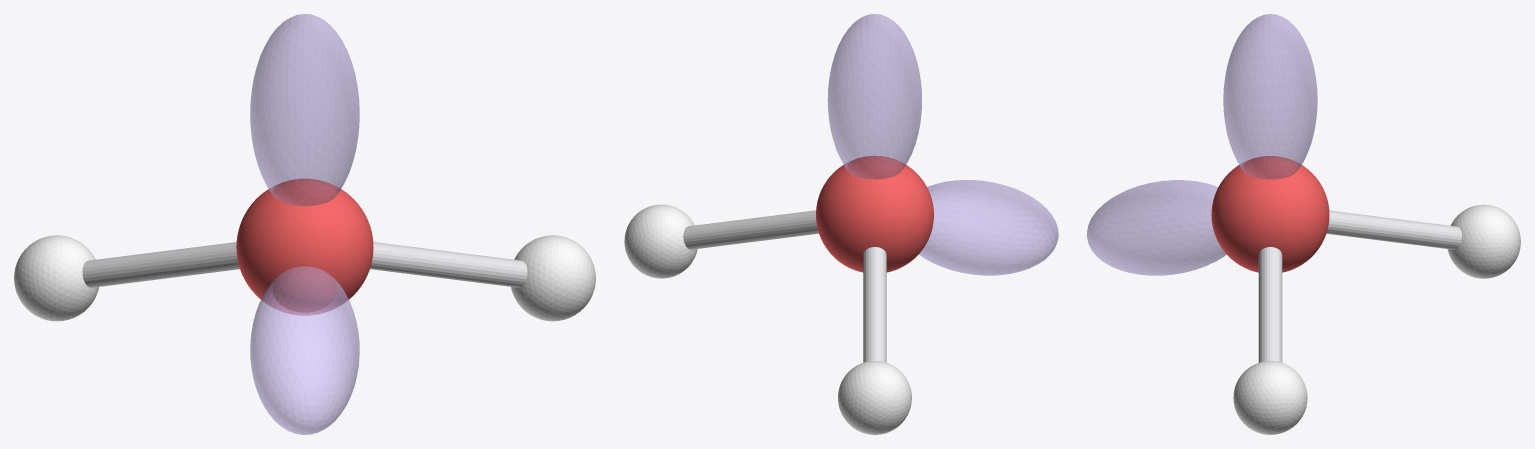
3 renders of one model, left to right at view 1: azimuth 30°, elevation 25°; view 2: azimuth 150°, elevation 25°; view 3: azimuth 270°, elevation 25°, orthographic. The views are drawn at different scales.
Visible parts, largest first — view 1: lone_pair_0, O_centre, lone_pair_2, H_3, H_1, bond_1, bond_3; view 2: lone_pair_0, O_centre, lone_pair_2, H_3, H_1, bond_1, bond_3; view 3: lone_pair_0, O_centre, lone_pair_2, H_1, H_3, bond_3, bond_1.
Boxes of the visible parts, bbox=[...] form: lone_pair_0: bbox=[250, 14, 359, 205]; O_centre: bbox=[236, 178, 373, 315]; lone_pair_2: bbox=[250, 266, 359, 434]; H_3: bbox=[14, 235, 98, 321]; H_1: bbox=[511, 235, 595, 321]; bond_1: bbox=[370, 242, 527, 287]; bond_3: bbox=[82, 242, 239, 287]; lone_pair_0: bbox=[827, 14, 922, 179]; O_centre: bbox=[816, 155, 933, 272]; lone_pair_2: bbox=[919, 180, 1058, 275]; H_3: bbox=[838, 361, 911, 434]; H_1: bbox=[624, 204, 697, 278]; bond_1: bbox=[683, 210, 818, 249]; bond_3: bbox=[863, 247, 886, 362]; lone_pair_0: bbox=[1223, 14, 1317, 179]; O_centre: bbox=[1211, 156, 1329, 272]; lone_pair_2: bbox=[1087, 180, 1226, 275]; H_1: bbox=[1233, 361, 1307, 434]; H_3: bbox=[1447, 204, 1520, 278]; bond_3: bbox=[1326, 210, 1461, 249]; bond_1: bbox=[1258, 247, 1282, 362].
Size of the model in its own units: 0.2632 by 0.2037 by 0.2574.
